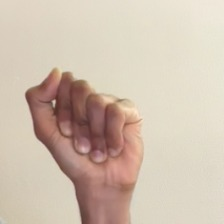A: (19, 57, 164, 198)
